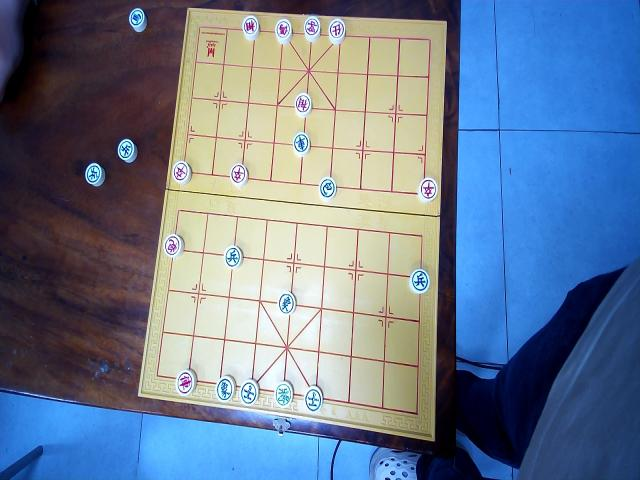piece: (408, 267, 430, 295), (175, 368, 197, 396), (417, 176, 438, 203), (216, 374, 236, 402), (239, 378, 259, 406), (162, 233, 184, 258), (274, 381, 293, 408), (304, 385, 323, 412), (328, 17, 346, 45), (274, 17, 292, 45), (117, 138, 137, 163), (84, 162, 104, 187), (172, 159, 191, 185), (303, 15, 321, 42), (129, 6, 147, 33), (294, 91, 312, 117), (242, 15, 260, 41), (224, 244, 242, 269), (230, 163, 248, 188), (292, 131, 310, 156), (278, 290, 296, 314), (318, 176, 336, 200)
